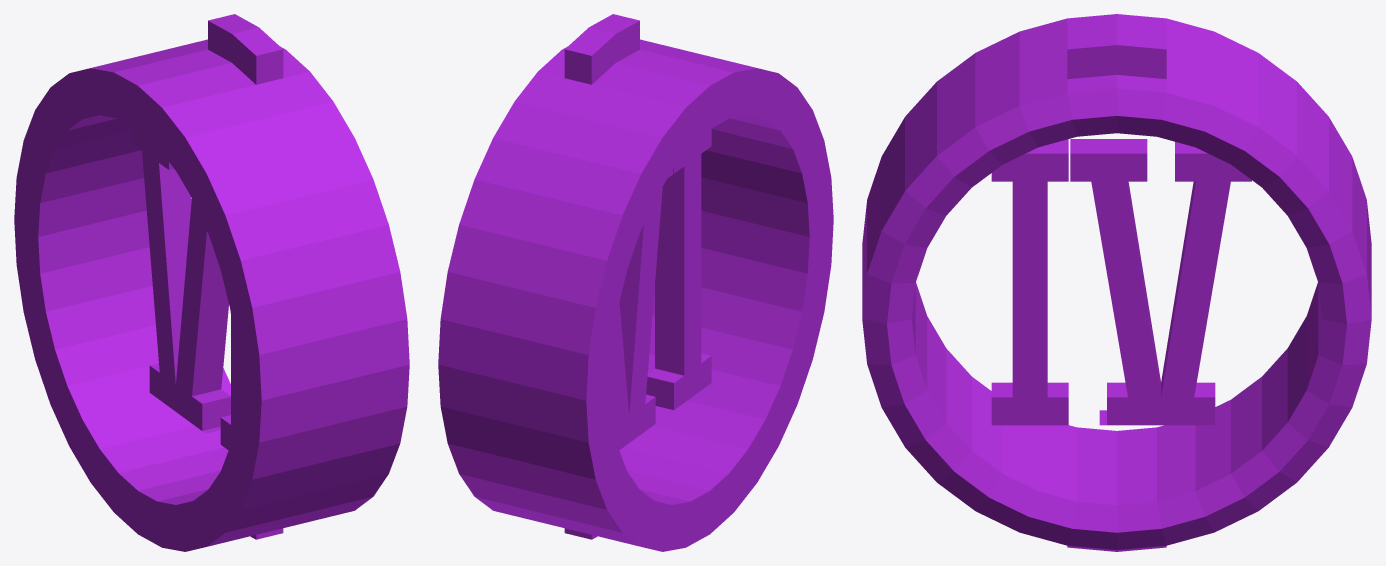
3 renders of one model, left to right at view 1: azimuth 30°, elevation 25°; view 2: azimuth 150°, elevation 25°; view 3: azimuth 270°, elevation 25°, orthographic. The views are drawn at different scales.
Visible parts, largest first — view 1: 円柱, 1.001, 1; view 2: 円柱, 1, 1.001; view 3: 円柱, 1.001, 1.
Part boxes in pixels (box(x1,y1,x2,y2)): 円柱: box(14, 14, 409, 551); 1.001: box(131, 126, 230, 430); 1: box(220, 316, 237, 449); 円柱: box(438, 14, 833, 551); 1: box(646, 128, 711, 410); 1.001: box(610, 169, 673, 449); 円柱: box(862, 14, 1371, 551); 1.001: box(1070, 139, 1251, 425); 1: box(991, 139, 1068, 425).
Size of the model in its own units: 144 by 430 by 392.
